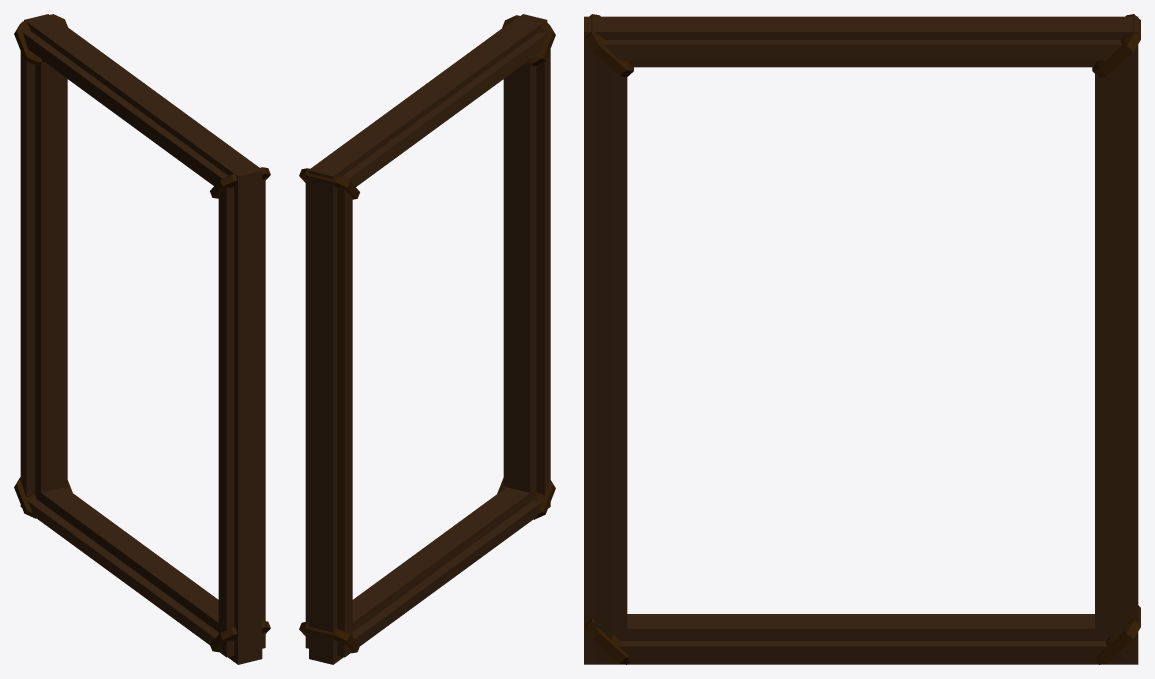
Rendered from Frame.fbx.
3 views of the same model, side by side, from view 1: azimuth 30°, elevation 25°; view 2: azimuth 150°, elevation 25°; view 3: azimuth 270°, elevation 25° (orthographic). The views are drawn at different scales.
Parts seen in each view (by area): view 1: Frame; view 2: Frame; view 3: Frame.
Part boxes in pixels (box(x1,y1,x2,y2)): Frame: box(14, 14, 270, 664); Frame: box(299, 14, 555, 664); Frame: box(584, 14, 1140, 664).
Bounding box in the file's own units: 19.31 × 187 × 149.
